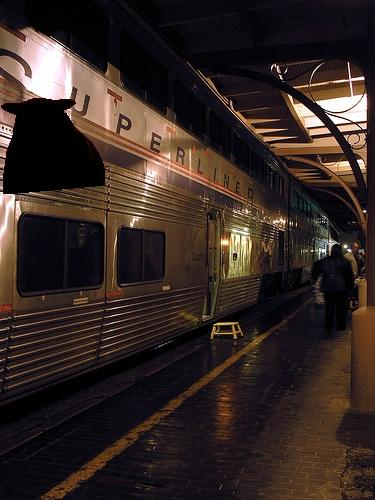tampered: (2, 99, 105, 194)
